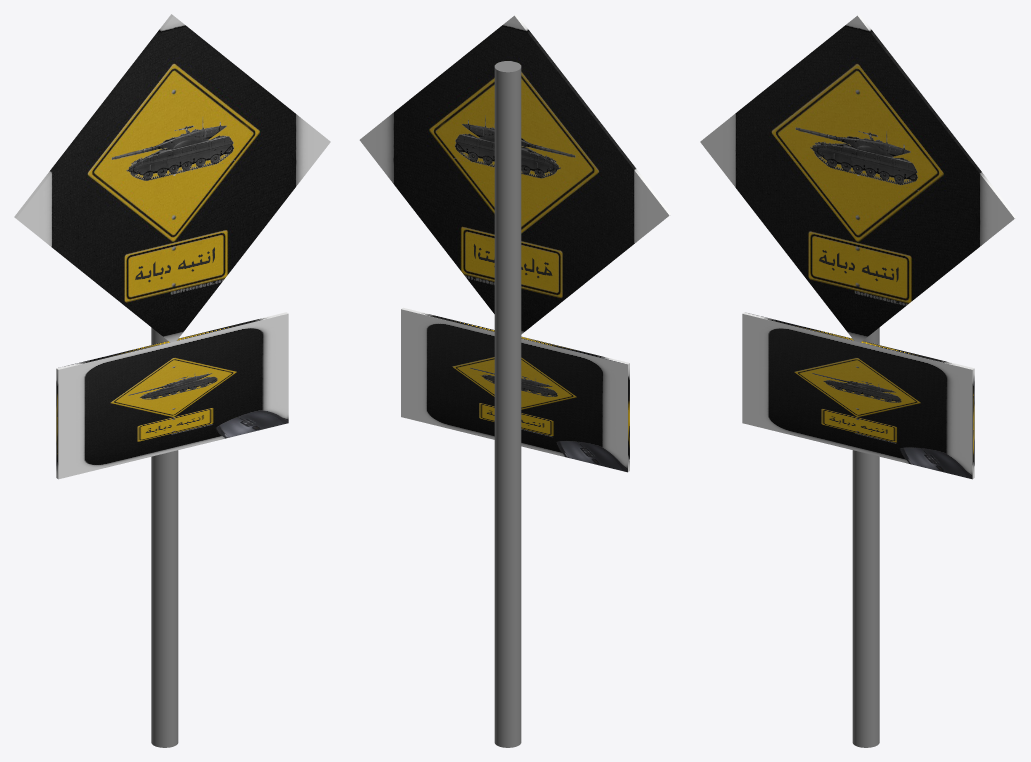
File: Signal.FBX
3 views of the same model, side by side, from view 1: azimuth 30°, elevation 25°; view 2: azimuth 150°, elevation 25°; view 3: azimuth 330°, elevation 25° (orthographic).
Visible parts, largest first — view 1: Box023, Box024, Cylinder026; view 2: Box023, Box024, Cylinder026; view 3: Box023, Box024, Cylinder026.
Part boxes in pixels (left/top/right/bottom): Box023: left=14, top=14, right=330, bottom=342; Box024: left=56, top=312, right=288, bottom=479; Cylinder026: left=151, top=327, right=178, bottom=747; Box023: left=359, top=14, right=670, bottom=334; Box024: left=401, top=307, right=629, bottom=472; Cylinder026: left=494, top=61, right=521, bottom=747; Box023: left=700, top=14, right=1016, bottom=342; Box024: left=742, top=312, right=974, bottom=479; Cylinder026: left=852, top=327, right=879, bottom=747.
Bounding box in the file's own units: 2.84 × 6.32 × 0.2417.
3 materials, 2 textured.
